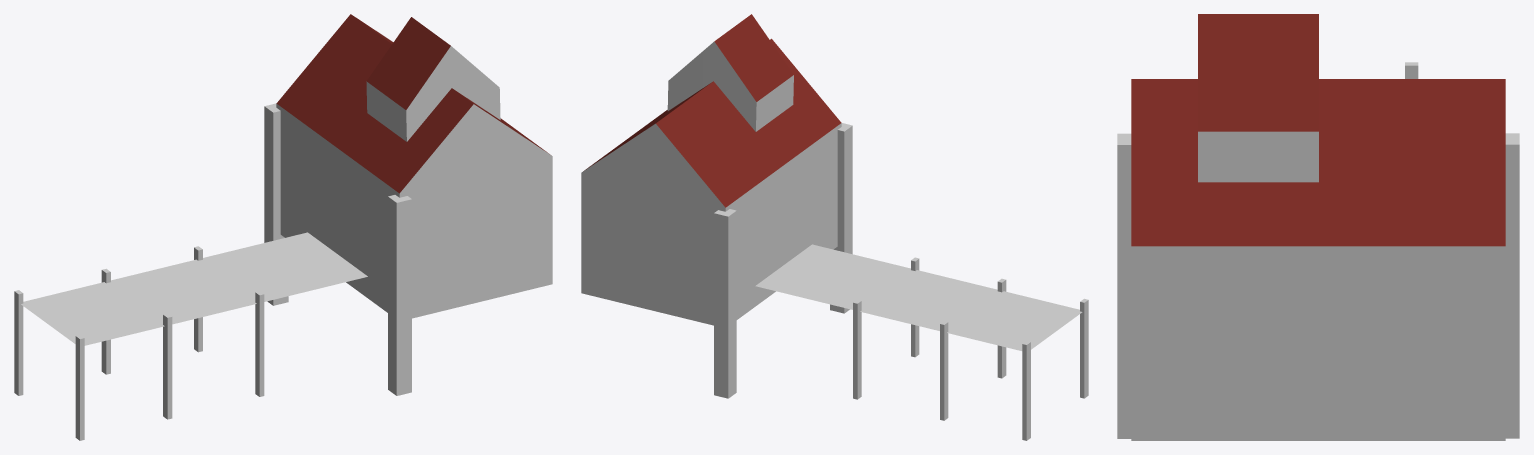
Rendered from pier01.dae.
3 views of the same model, side by side, from view 1: azimuth 30°, elevation 25°; view 2: azimuth 150°, elevation 25°; view 3: azimuth 270°, elevation 25° (orthographic). The views are drawn at different scales.
Visible parts, largest first — view 1: pier; view 2: pier; view 3: pier.
Part boxes in pixels (x1,y1,x2,y2): pier: (14, 14, 552, 440); pier: (581, 14, 1088, 440); pier: (1117, 14, 1519, 440).
Bounding box in the file's own units: 5.8 × 2.99 × 3.89.
